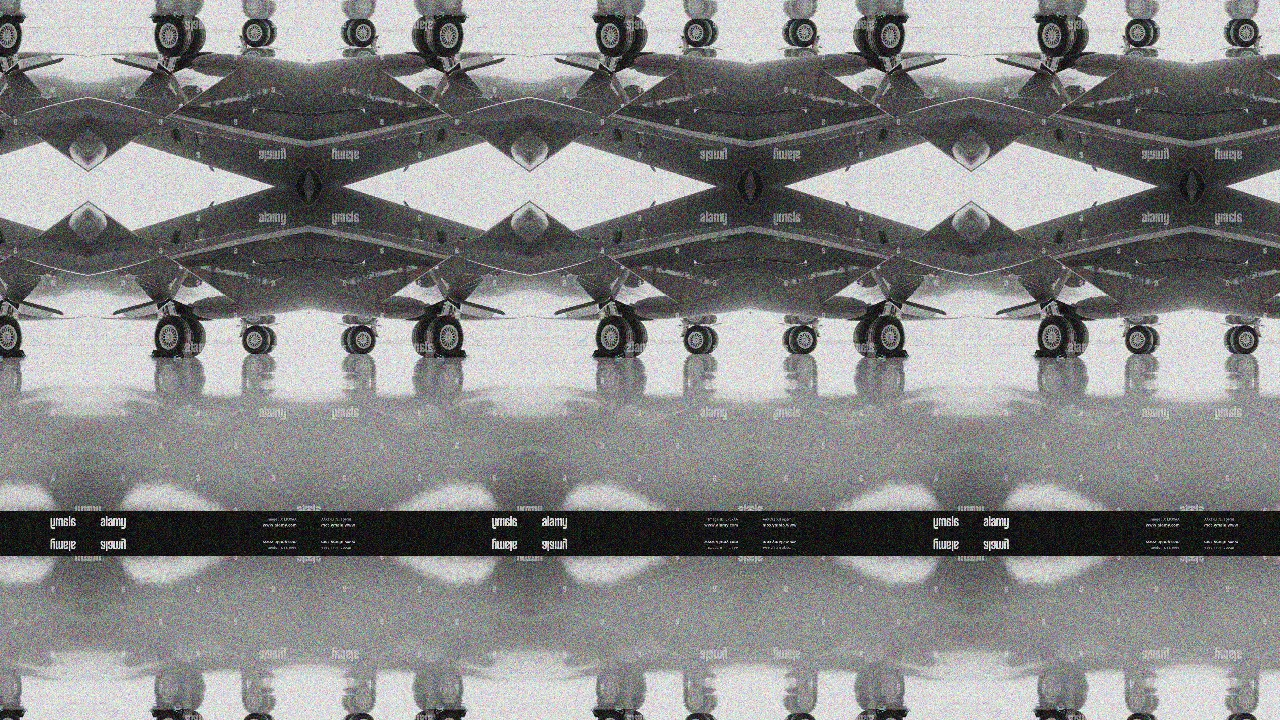chock: (174, 13, 194, 24), (423, 13, 443, 24), (616, 13, 636, 24), (865, 13, 885, 24), (1058, 13, 1078, 24), (174, 349, 194, 360), (423, 349, 443, 360), (616, 349, 636, 360), (865, 349, 885, 360), (1058, 349, 1078, 360), (174, 708, 194, 719), (423, 708, 443, 719), (616, 708, 636, 719), (865, 708, 885, 719), (1058, 708, 1078, 719), (450, 15, 468, 25), (591, 15, 609, 25), (450, 710, 468, 720), (591, 710, 609, 720), (9, 15, 26, 25), (149, 15, 166, 25), (893, 15, 910, 25), (1033, 15, 1050, 25), (9, 710, 26, 720), (149, 710, 166, 720), (893, 710, 910, 720), (1033, 710, 1050, 720), (450, 348, 468, 357), (591, 348, 609, 357), (9, 348, 26, 357), (149, 348, 166, 357), (893, 348, 910, 357), (1033, 348, 1050, 357)
wheel: (153, 16, 189, 57), (428, 16, 464, 57), (595, 16, 631, 57), (870, 16, 906, 57), (1037, 16, 1073, 57), (153, 316, 189, 357), (428, 316, 464, 357), (595, 316, 631, 357), (870, 316, 906, 357), (1037, 316, 1073, 357), (241, 19, 276, 48), (341, 19, 376, 48), (1125, 19, 1160, 48), (1225, 19, 1260, 48), (241, 325, 276, 354), (341, 325, 376, 354), (1125, 325, 1160, 354), (1225, 325, 1260, 354), (683, 19, 717, 48), (784, 19, 818, 48), (683, 325, 717, 354), (784, 325, 818, 354), (181, 318, 205, 357), (412, 318, 436, 357), (623, 318, 647, 357), (854, 318, 878, 357), (1065, 318, 1089, 357), (181, 16, 205, 54), (412, 16, 436, 54), (623, 16, 647, 54), (854, 16, 878, 54), (1065, 16, 1089, 54), (0, 16, 22, 57), (0, 316, 22, 357), (340, 20, 358, 46), (701, 20, 719, 46), (782, 20, 800, 46), (1224, 20, 1242, 46), (340, 326, 358, 352), (701, 326, 719, 352), (782, 326, 800, 352), (1224, 326, 1242, 352), (259, 20, 276, 46), (1143, 20, 1160, 46), (259, 326, 276, 352), (1143, 326, 1160, 352), (153, 711, 189, 720), (428, 711, 464, 720), (595, 711, 631, 720), (870, 711, 906, 720), (1037, 711, 1073, 720), (181, 711, 205, 720), (412, 711, 436, 720), (623, 711, 647, 720), (854, 711, 878, 720), (1065, 711, 1089, 720), (241, 714, 276, 720), (341, 714, 376, 720), (1125, 714, 1160, 720), (1225, 714, 1260, 720), (683, 714, 717, 720), (784, 714, 818, 720), (0, 711, 22, 720), (340, 715, 358, 720), (701, 715, 719, 720), (782, 715, 800, 720), (1224, 715, 1242, 720), (259, 715, 276, 720), (1143, 715, 1160, 720)
